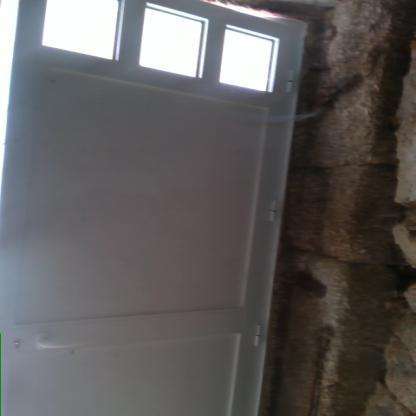door: (12, 2, 260, 415)
hinged: (283, 67, 298, 96), (254, 322, 264, 349), (269, 200, 279, 225)
lever: (35, 336, 88, 352)
